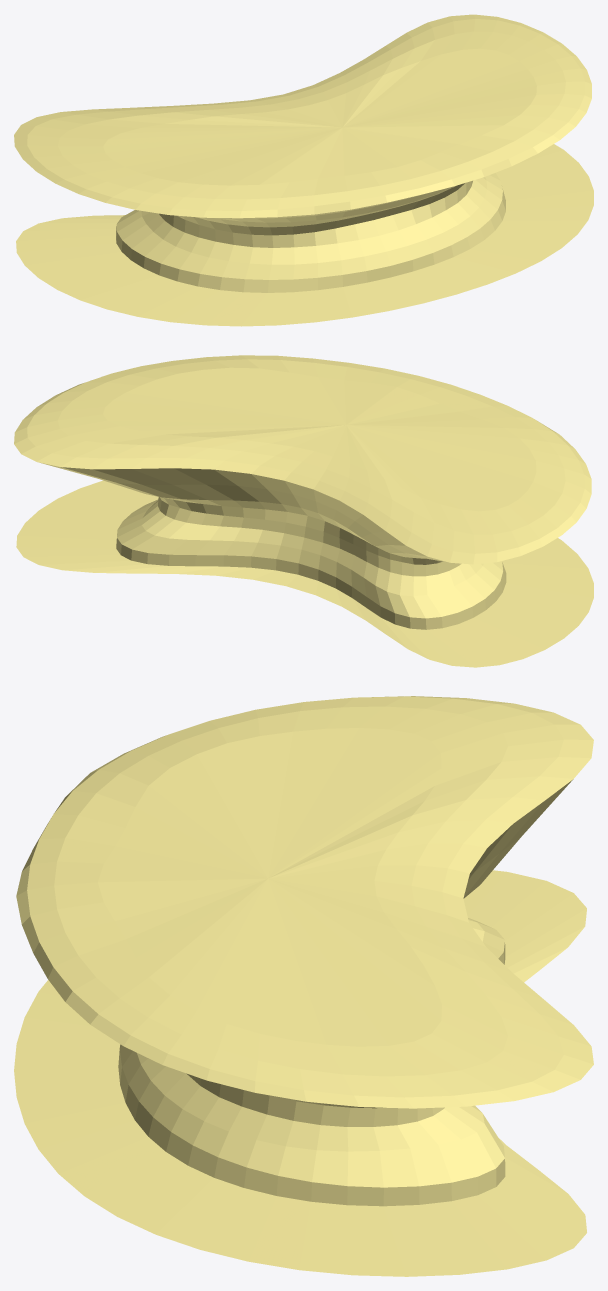
The model's file is stol.fbx.
3 renders of one model, top to bottom at view 1: azimuth 30°, elevation 25°; view 2: azimuth 150°, elevation 25°; view 3: azimuth 270°, elevation 25°, orthographic. The views are drawn at different scales.
Parts seen in each view (by area): view 1: Torus.003; view 2: Torus.003; view 3: Torus.003.
Part boxes in pixels (left/top/right/bottom): Torus.003: left=14, top=14, right=593, bottom=326; Torus.003: left=14, top=355, right=593, bottom=667; Torus.003: left=14, top=696, right=593, bottom=1276.
Size of the model in its own units: 2052 by 447 by 1219.
